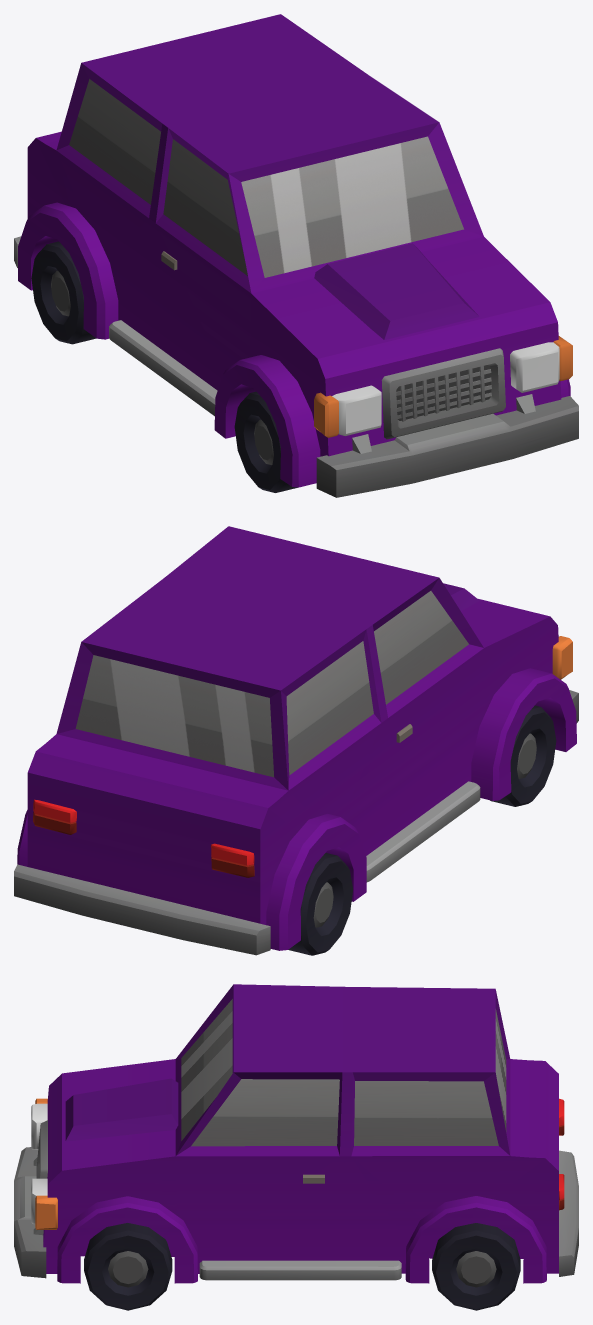
The model's file is Car_3_11.fbx.
The picture shows the model from 3 angles, top to bottom: view 1: azimuth 30°, elevation 25°; view 2: azimuth 150°, elevation 25°; view 3: azimuth 270°, elevation 25°; orthographic projection. The views are drawn at different scales.
Parts seen in each view (by area): view 1: Car_3_11, Wheel_Br, Wheel_Fr; view 2: Car_3_11, Wheel_Br, Wheel_Fr; view 3: Car_3_11, Wheel_Bl, Wheel_Fl.
Part boxes in pixels (left/top/right/bottom): Car_3_11: left=14, top=14, right=578, bottom=497; Wheel_Br: left=31, top=241, right=96, bottom=344; Wheel_Fr: left=234, top=391, right=297, bottom=492; Car_3_11: left=14, top=526, right=578, bottom=955; Wheel_Br: left=288, top=853, right=353, bottom=955; Wheel_Fr: left=490, top=705, right=556, bottom=806; Car_3_11: left=14, top=984, right=578, bottom=1283; Wheel_Bl: left=432, top=1223, right=520, bottom=1310; Wheel_Fl: left=84, top=1223, right=172, bottom=1310.
Bounding box in the file's own units: 1.13 × 1.02 × 2.3.
